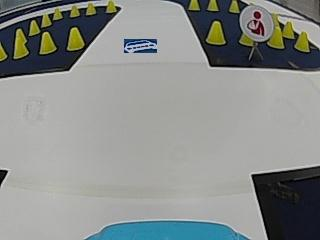cone: (206, 21, 226, 45), (13, 29, 28, 58), (66, 27, 84, 50), (268, 25, 284, 49), (39, 32, 56, 54), (295, 31, 310, 52), (283, 21, 293, 38), (29, 19, 40, 34), (104, 0, 116, 13), (85, 2, 96, 15), (52, 7, 63, 20), (0, 41, 7, 60), (207, 0, 219, 11), (188, 0, 200, 11), (41, 14, 52, 26), (69, 5, 80, 17), (229, 1, 239, 13)
patient: (241, 5, 273, 40)
